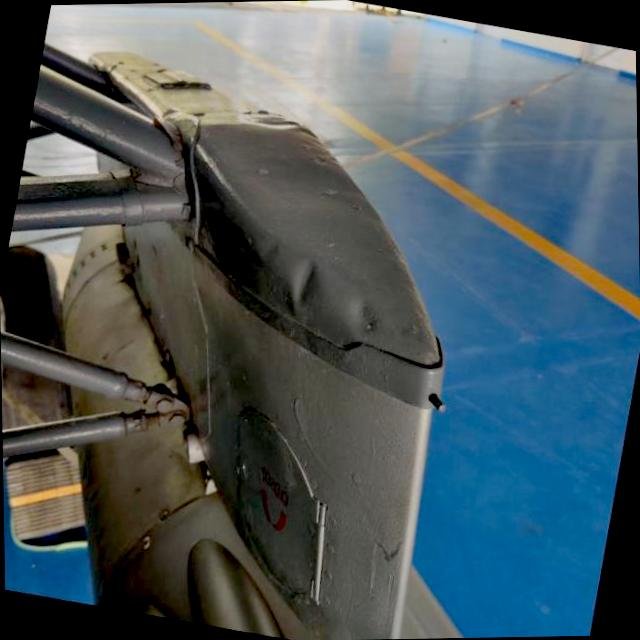dent: (330, 292, 384, 349), (288, 258, 316, 312)
